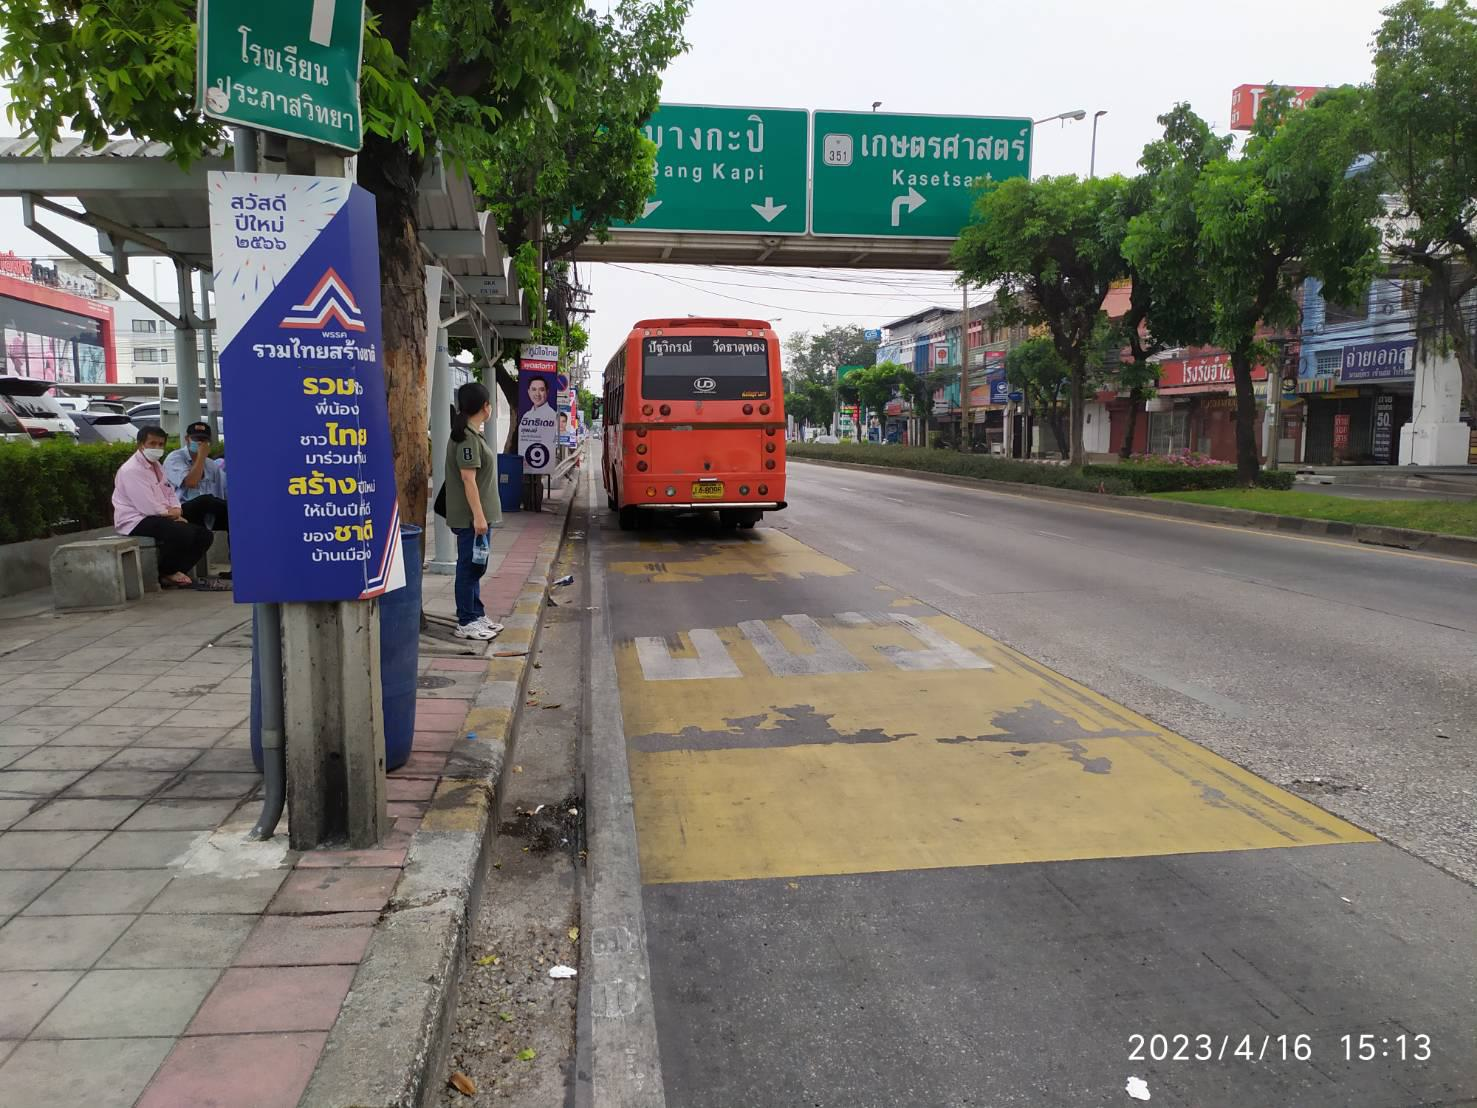Banner: (190, 163, 404, 606)
